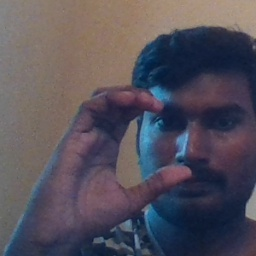C: (76, 77, 194, 206)
